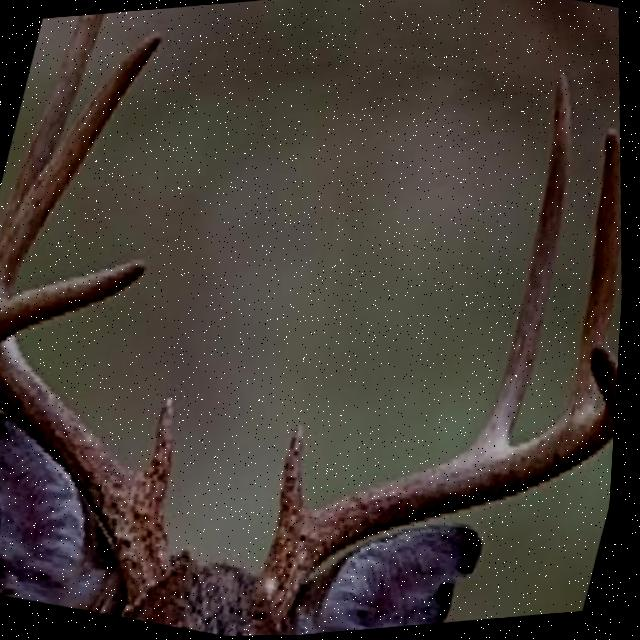L-F: (0, 260, 174, 607)
L-G1: (151, 392, 180, 503)
L-G3: (0, 33, 161, 286)
R-F: (258, 345, 623, 637)
R-G1: (281, 422, 311, 522)
R-G2: (480, 75, 574, 450)
